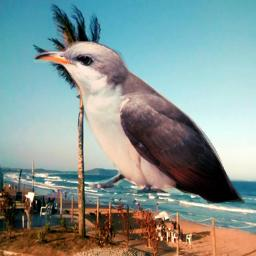Cuckoo: (34, 41, 245, 205)
